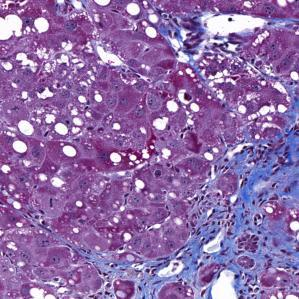fibrosis: (179, 216, 293, 290), (212, 124, 298, 200), (89, 255, 172, 293)
